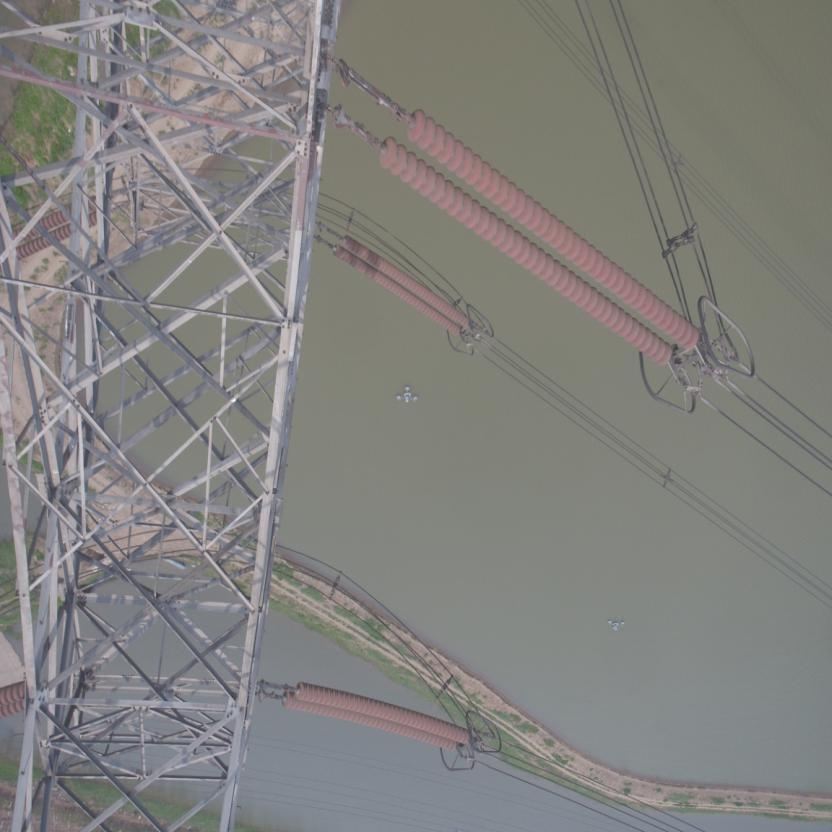insulator: (363, 104, 705, 374), (323, 234, 472, 344), (270, 683, 474, 758)
